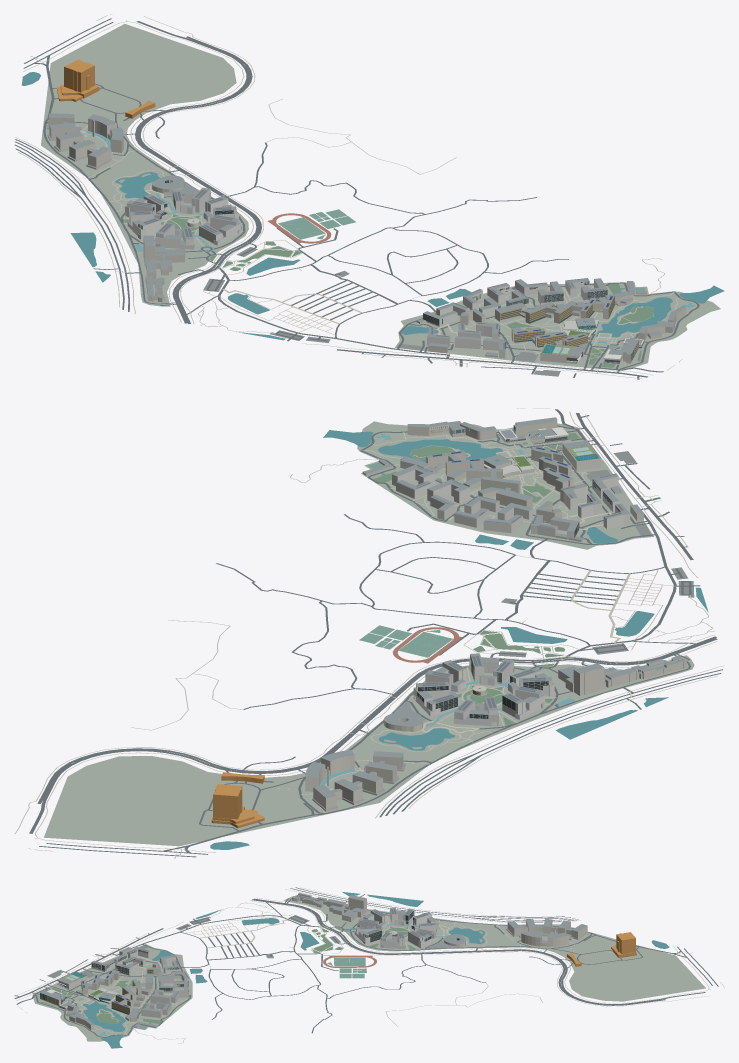
Rendered from bnbu-campus.glb.
3 renders of one model, top to bottom at view 1: azimuth 30°, elevation 25°; view 2: azimuth 150°, elevation 25°; view 3: azimuth 270°, elevation 25°, orthographic. The views are drawn at different scales.
Visible parts, largest first — view 1: datum | phase 2.001, road | phase context.001, datum | phase 1.001, path | phase context.001, water | phase context.001, road | phase 2.001, water | phase 1.001, road | phase 1.001, sport | phase context.001, 未命名建筑 19971852 | relation_19971852.001, path | phase 1.001, vegetation | phase 1.001 (+9 smaller); view 2: datum | phase 2.001, road | phase context.001, datum | phase 1.001, path | phase context.001, water | phase context.001, road | phase 2.001, water | phase 1.001, 未命名建筑 19971852 | relation_19971852.001, road | phase 1.001, sport | phase context.001, path | phase 1.001, 文化创意群落 | way_664093290.001 (+12 smaller); view 3: datum | phase 2.001, road | phase context.001, datum | phase 1.001, path | phase context.001, water | phase context.001, road | phase 2.001, water | phase 1.001, road | phase 1.001, 未命名建筑 19971852 | relation_19971852.001, sport | phase context.001, path | phase 1.001, vegetation | phase 1.001 (+14 smaller).
Boxes of the visible parts, left/top/right/bottom form: datum | phase 2.001: left=41, top=24, right=248, bottom=306; road | phase context.001: left=14, top=18, right=663, bottom=379; datum | phase 1.001: left=395, top=282, right=720, bottom=370; path | phase context.001: left=15, top=14, right=682, bottom=378; water | phase context.001: left=21, top=72, right=724, bottom=340; road | phase 2.001: left=43, top=73, right=245, bottom=305; water | phase 1.001: left=402, top=287, right=706, bottom=337; road | phase 1.001: left=397, top=282, right=699, bottom=370; sport | phase context.001: left=278, top=209, right=355, bottom=239; 未命名建筑 19971852 | relation_19971852.001: left=143, top=235, right=185, bottom=279; path | phase 1.001: left=436, top=286, right=688, bottom=359; vegetation | phase 1.001: left=507, top=283, right=653, bottom=367; datum | phase 2.001: left=44, top=655, right=694, bottom=846; road | phase context.001: left=29, top=409, right=722, bottom=857; datum | phase 1.001: left=357, top=421, right=653, bottom=549; path | phase context.001: left=14, top=408, right=724, bottom=858; water | phase context.001: left=210, top=430, right=708, bottom=849; road | phase 2.001: left=199, top=656, right=690, bottom=840; water | phase 1.001: left=358, top=431, right=617, bottom=543; 未命名建筑 19971852 | relation_19971852.001: left=558, top=663, right=637, bottom=695; road | phase 1.001: left=360, top=424, right=652, bottom=544; sport | phase context.001: left=359, top=625, right=452, bottom=657; path | phase 1.001: left=361, top=432, right=611, bottom=529; 文化创意群落 | way_664093290.001: left=407, top=421, right=496, bottom=439; datum | phase 2.001: left=283, top=895, right=705, bottom=1001; road | phase context.001: left=14, top=887, right=718, bottom=1033; datum | phase 1.001: left=32, top=944, right=192, bottom=1041; path | phase context.001: left=14, top=887, right=724, bottom=1043; water | phase context.001: left=105, top=892, right=669, bottom=1048; road | phase 2.001: left=286, top=896, right=660, bottom=965; water | phase 1.001: left=83, top=950, right=171, bottom=1040; road | phase 1.001: left=33, top=944, right=190, bottom=1037; 未命名建筑 19971852 | relation_19971852.001: left=326, top=895, right=366, bottom=921; sport | phase context.001: left=327, top=957, right=366, bottom=978; path | phase 1.001: left=61, top=956, right=187, bottom=1035; vegetation | phase 1.001: left=41, top=980, right=161, bottom=1024.
Size of the model in its own units: 1244 by 61.45 by 2316.
